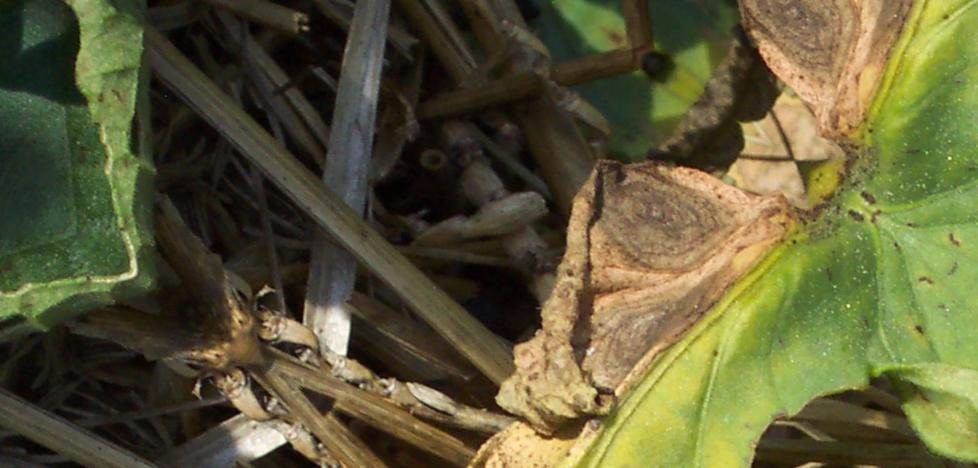Tomato Early blight leaf: (371, 51, 978, 468)
